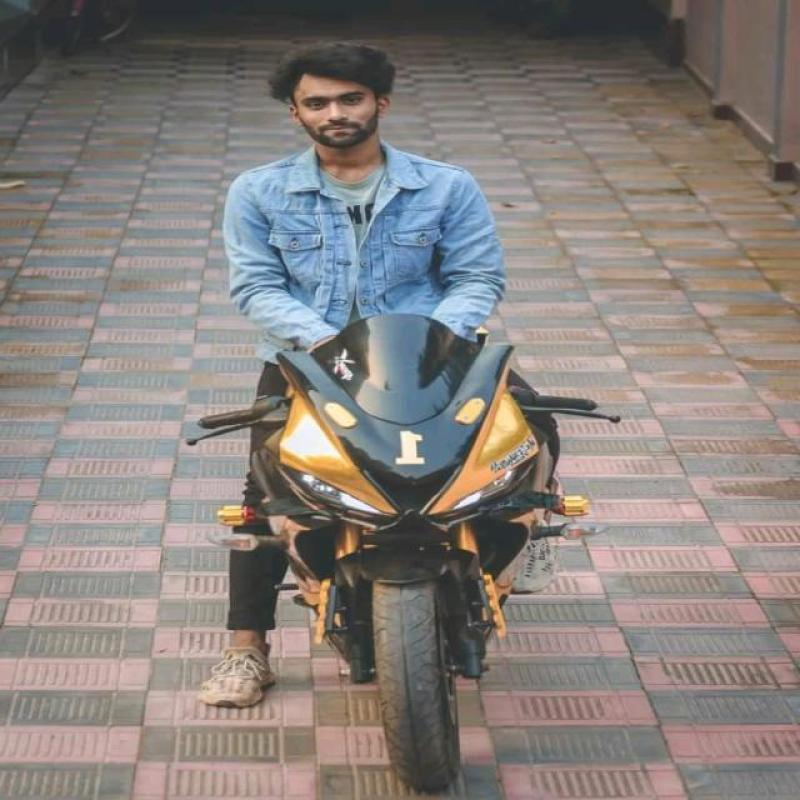nohelmet: (257, 40, 422, 158)
